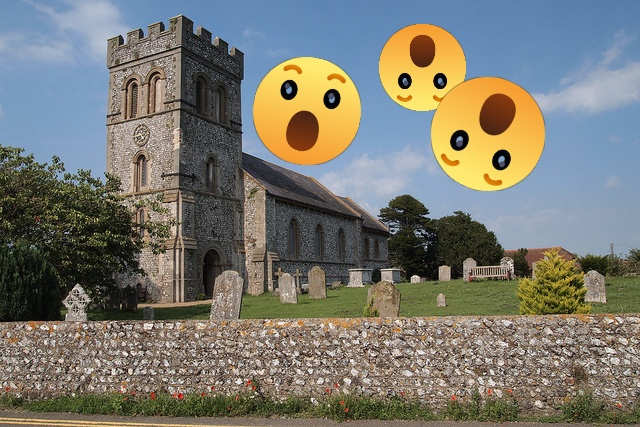wow: (431, 77, 545, 191), (253, 57, 361, 165), (379, 24, 466, 111)
